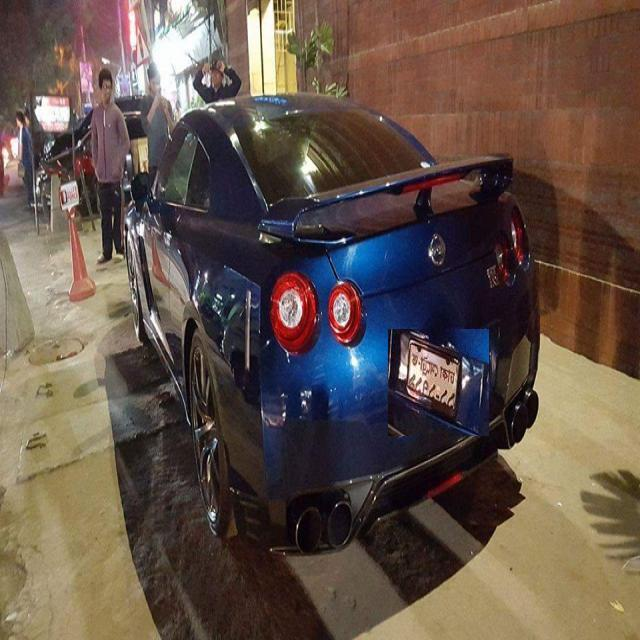numberplate: (388, 329, 489, 436), (414, 338, 473, 418)
